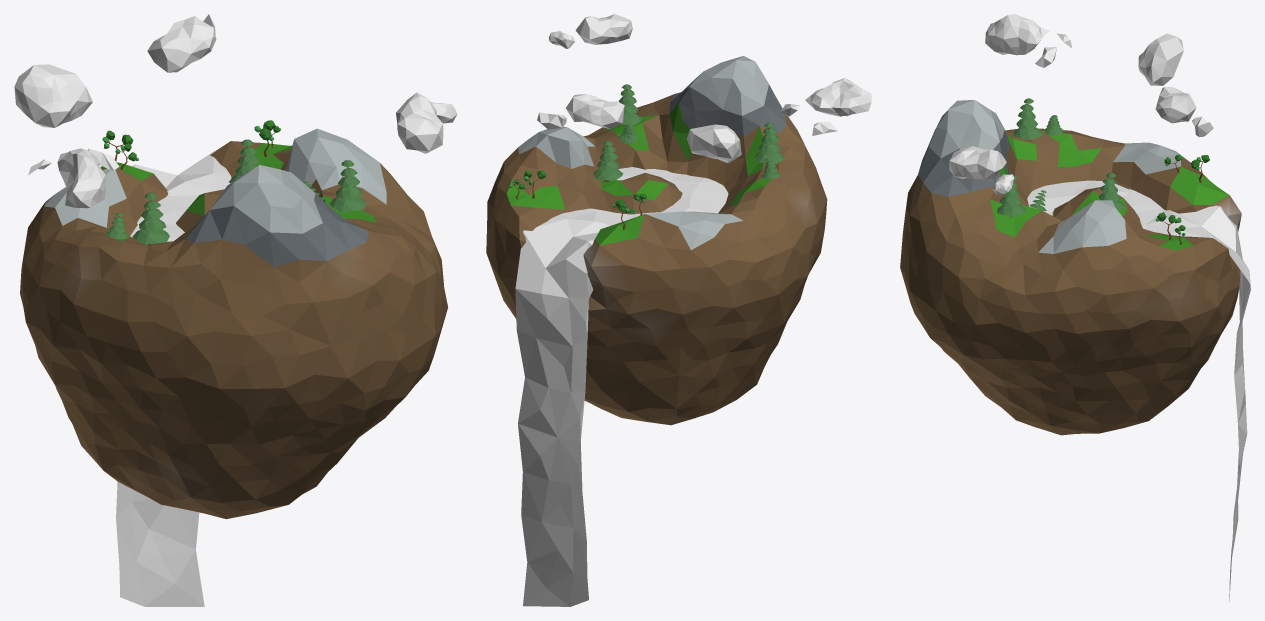
The model's file is Island.fbx.
3 views of the same model, side by side, from view 1: azimuth 30°, elevation 25°; view 2: azimuth 150°, elevation 25°; view 3: azimuth 270°, elevation 25° (orthographic). The views are drawn at different scales.
Parts seen in each view (by area): view 1: Island, River, Icosphere, Plane.001, Plane.003; view 2: Island, River, Icosphere, Plane, Plane.001, Plane.003; view 3: Island, Icosphere, River, Plane.001, Plane.003, Plane.
Boxes of the visible parts, bbox=[...] form: Island: bbox=[20, 128, 448, 519]; River: bbox=[116, 150, 231, 606]; Icosphere: bbox=[14, 14, 457, 208]; Plane.001: bbox=[132, 192, 169, 245]; Plane.003: bbox=[329, 160, 366, 212]; Island: bbox=[486, 56, 827, 425]; River: bbox=[515, 167, 728, 606]; Icosphere: bbox=[537, 14, 871, 163]; Plane: bbox=[593, 141, 623, 182]; Plane.001: bbox=[755, 122, 784, 165]; Plane.003: bbox=[619, 84, 642, 125]; Island: bbox=[900, 100, 1241, 435]; Icosphere: bbox=[949, 14, 1213, 194]; River: bbox=[1027, 180, 1250, 601]; Plane.001: bbox=[1013, 98, 1042, 141]; Plane.003: bbox=[997, 175, 1026, 217]; Plane: bbox=[1099, 172, 1125, 210].
Bounding box in the file's own units: 2402 × 3569 × 2297.
